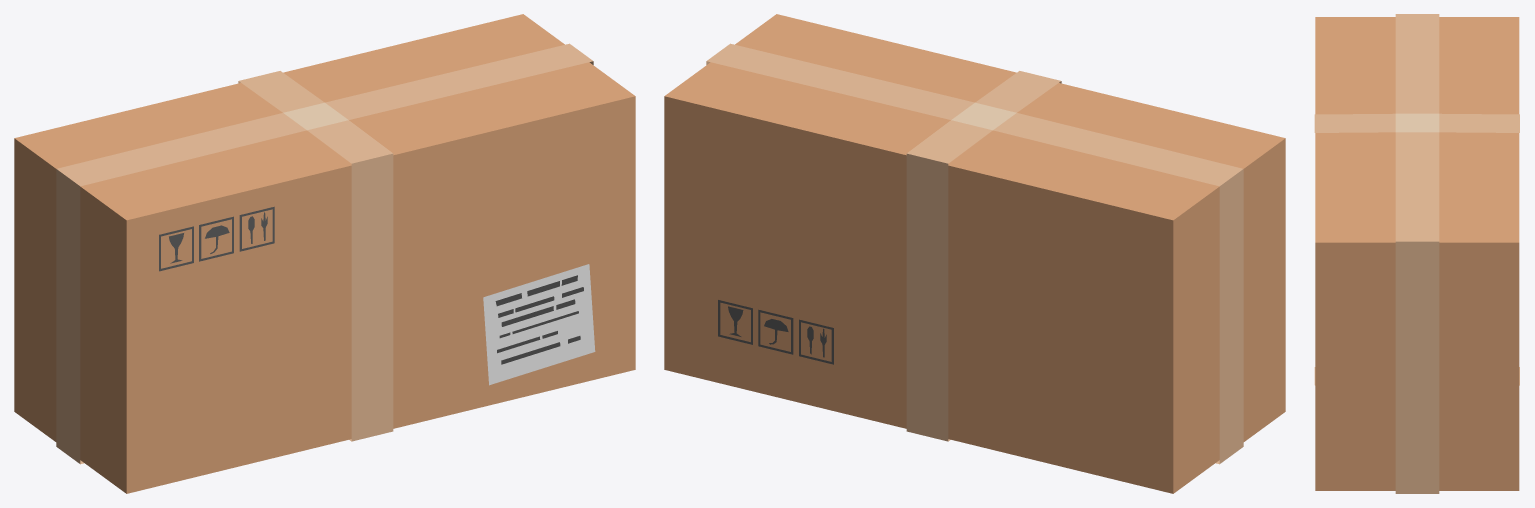
Rendered from SM_Boxes_09.fbx.
3 views of the same model, side by side, from view 1: azimuth 30°, elevation 25°; view 2: azimuth 150°, elevation 25°; view 3: azimuth 270°, elevation 25° (orthographic). The views are drawn at different scales.
Parts seen in each view (by area): view 1: SM_Boxes_09; view 2: SM_Boxes_09; view 3: SM_Boxes_09.
Part boxes in pixels (x1,y1,x2,y2): SM_Boxes_09: (14,14,635,493); SM_Boxes_09: (664,14,1285,493); SM_Boxes_09: (1314,14,1519,493).
Bounding box in the file's own units: 39.27 × 20.43 × 15.03.
